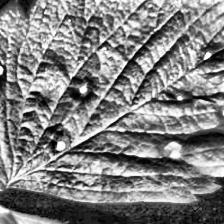Leaf Spot: (0, 0, 224, 206)
